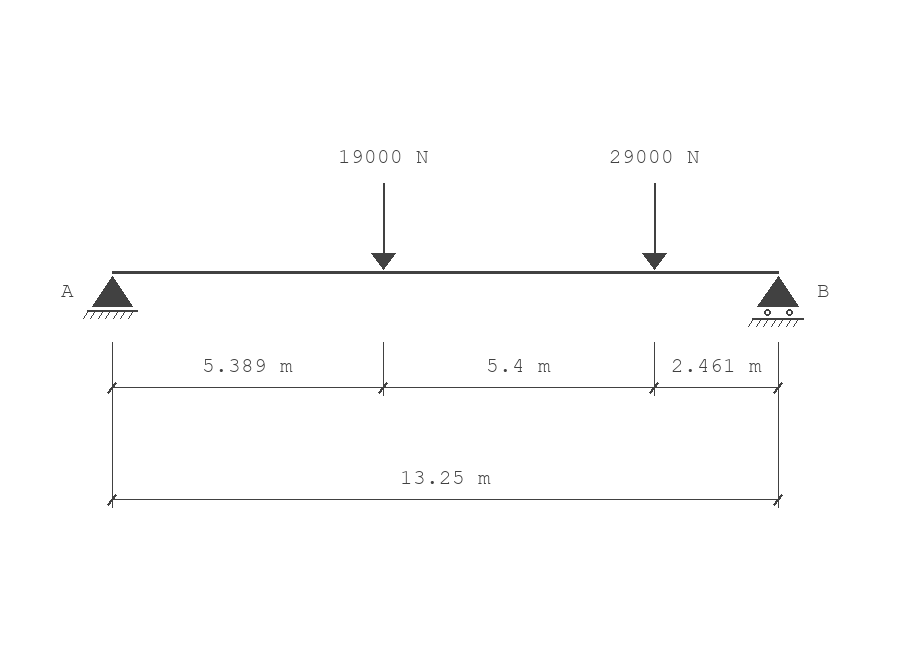pin_support: (83, 276, 138, 319)
point_load: (371, 183, 396, 270), (642, 183, 667, 270)
roller_support: (748, 276, 804, 327)
